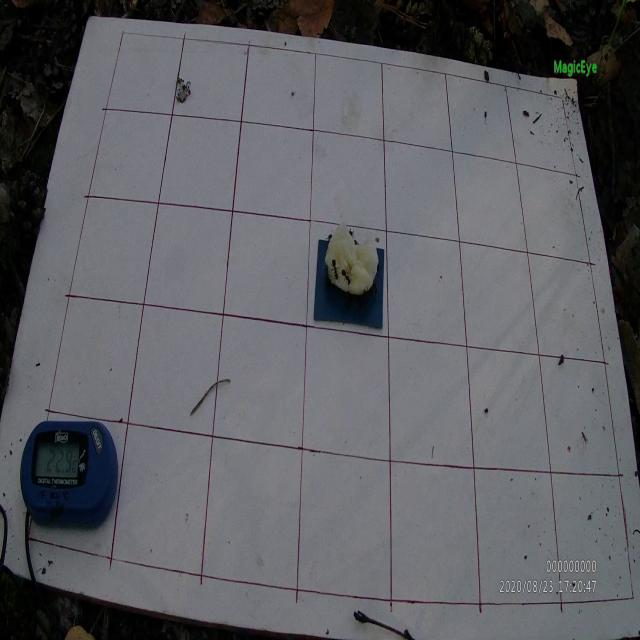Ant: (341, 262, 352, 287), (329, 258, 340, 282)
